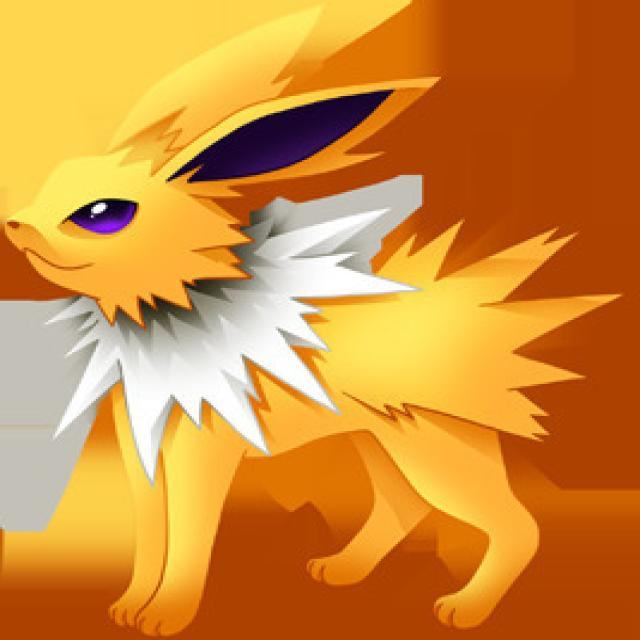Jolteon: (0, 84, 547, 614)
